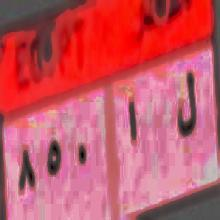0: (71, 135, 91, 173)
5: (43, 136, 63, 185)
8: (15, 144, 37, 198)
alif: (124, 93, 140, 152)
laam: (176, 64, 198, 148)
